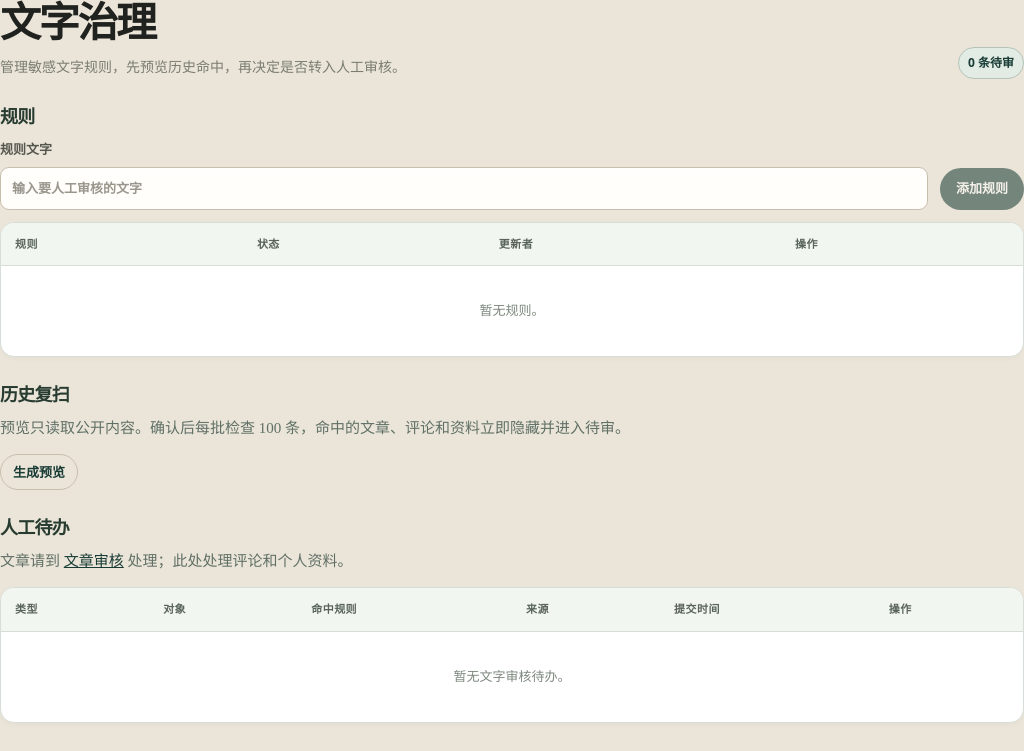
shows preview before confirmed batched rescan
Expected: the text "暂无规则。" is shown, [1,266,1023,356]
Click the button "生成预览": [39, 472] box [0,454,78,490]
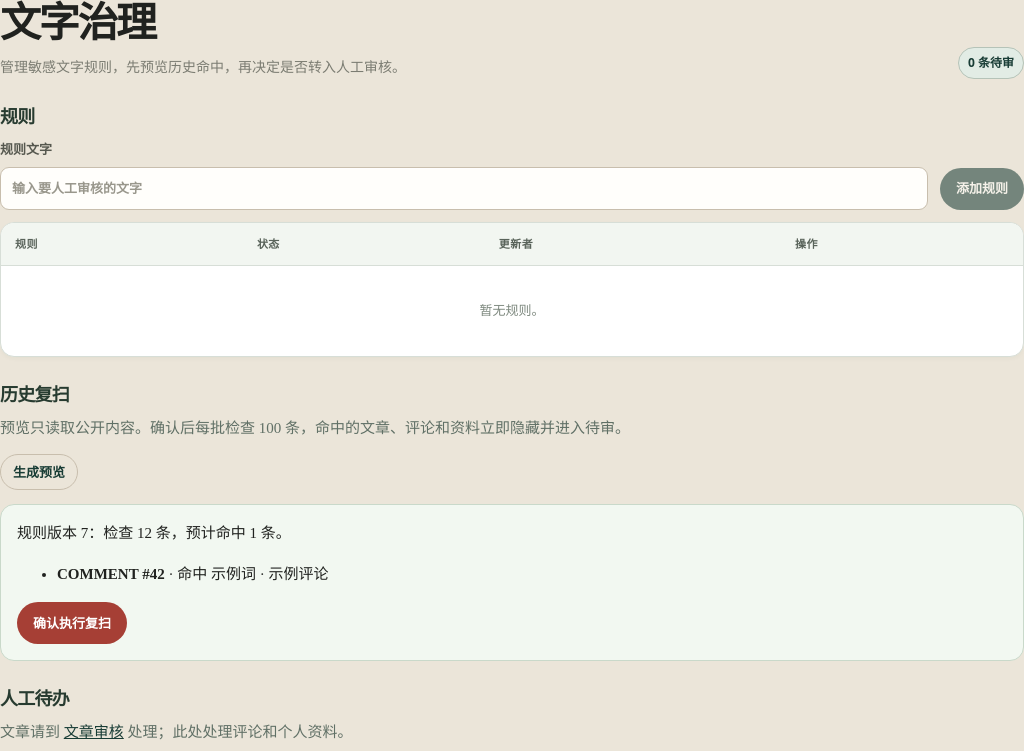
Result: the list item "COMMENT #42 · 命中 示例词 · 示例评论" is shown at [57,566,328,582]
Click the button "确认执行复扫": [72, 623] box [17,602,127,644]
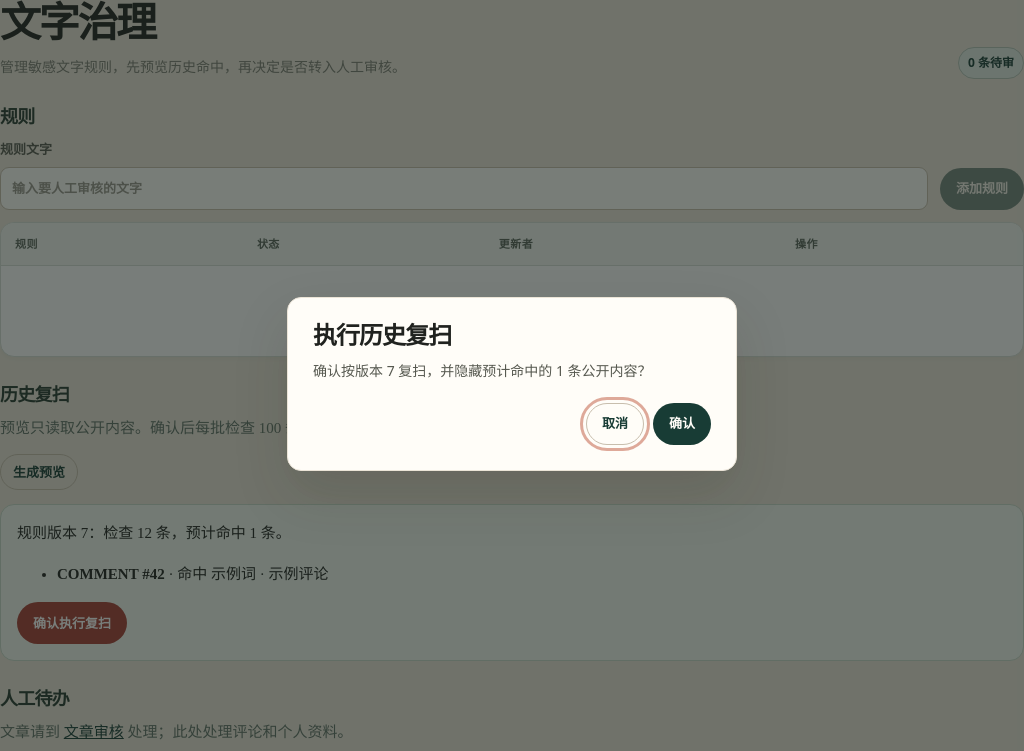
Click the button "确认": [682, 424] box [653,403,711,445]
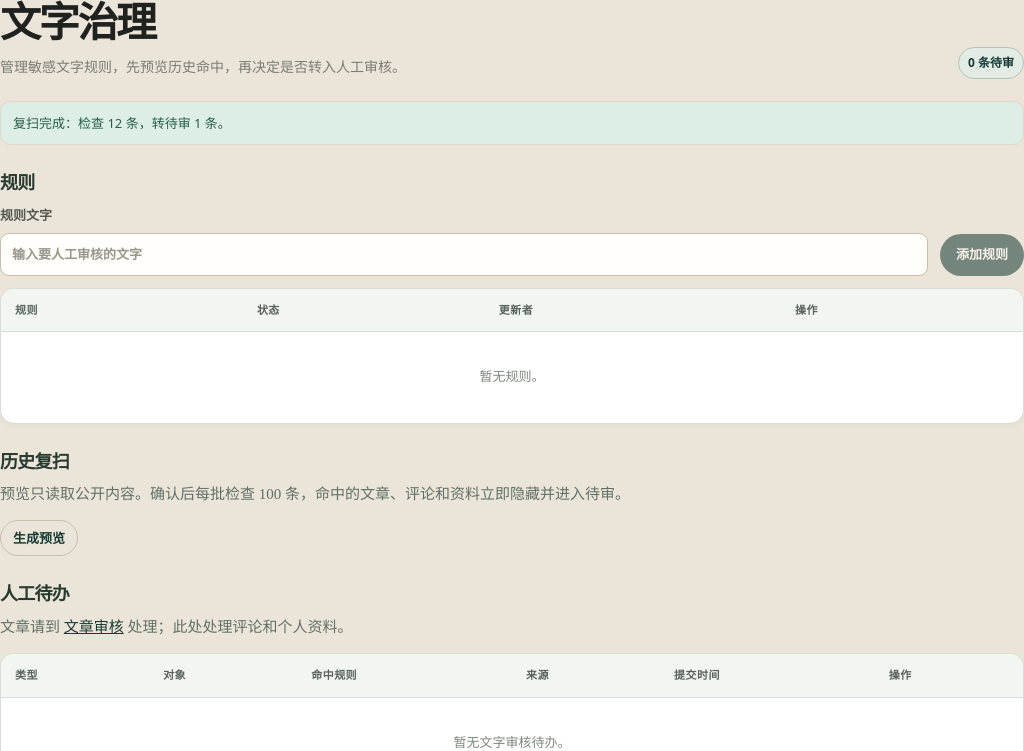
Result: the text "复扫完成：检查 12 条，转待审 1 条。" is shown at [0,101,1023,145]
